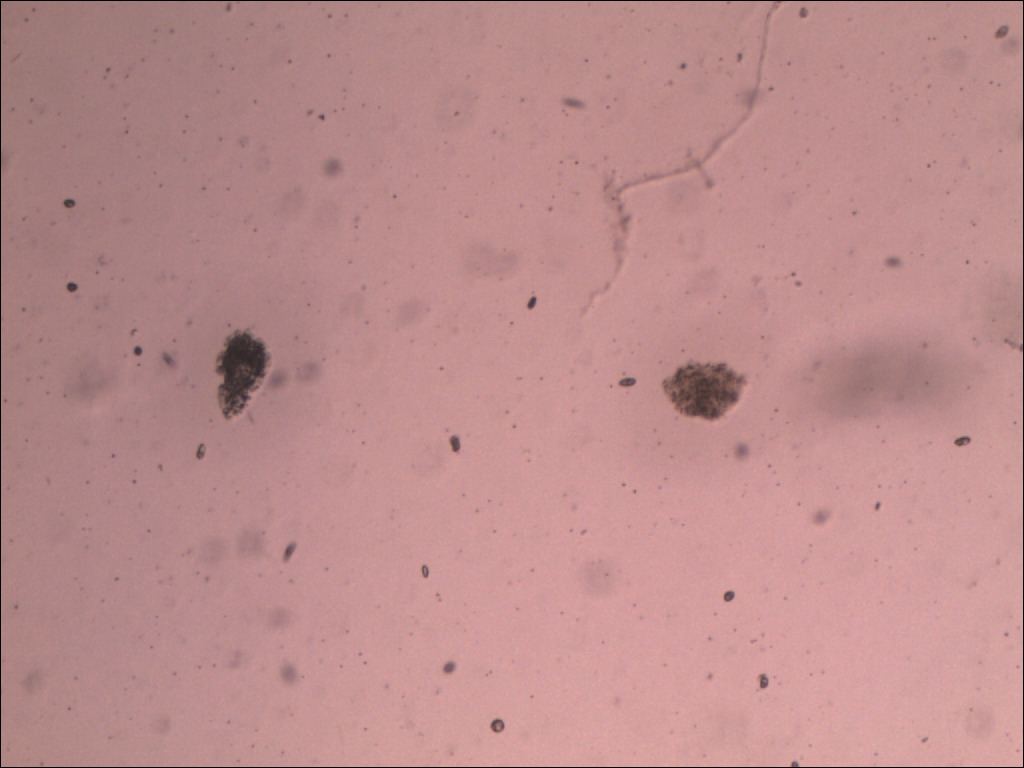amoeba: (204, 318, 279, 429), (658, 354, 755, 431)
